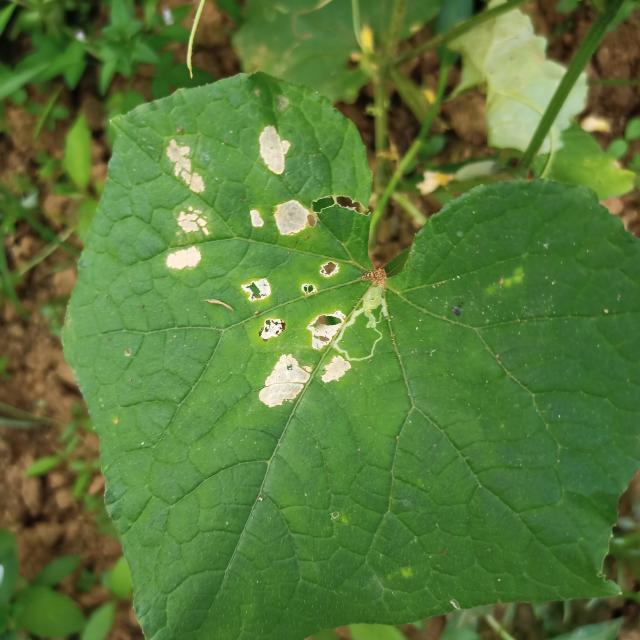disease_cucumber: (242, 125, 349, 409), (161, 135, 209, 280)
